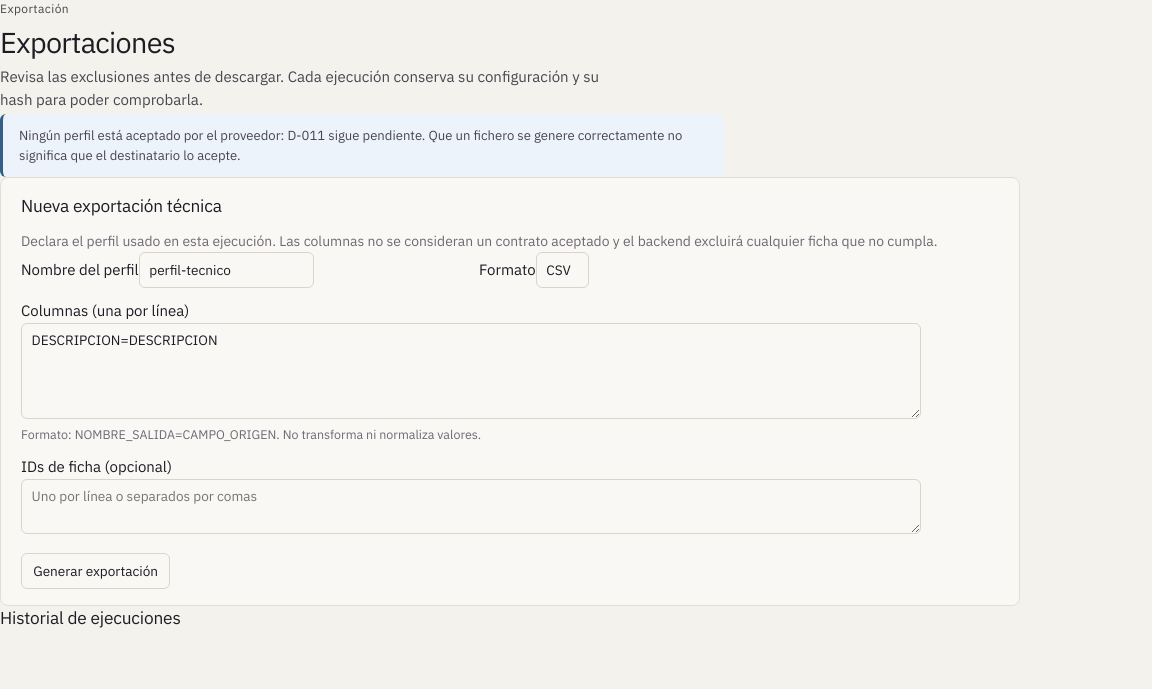
Test case: crea una exportacion firmada y refresca el historial
Click the button "Generar exportación" at (96, 571), box [21,553,170,589]
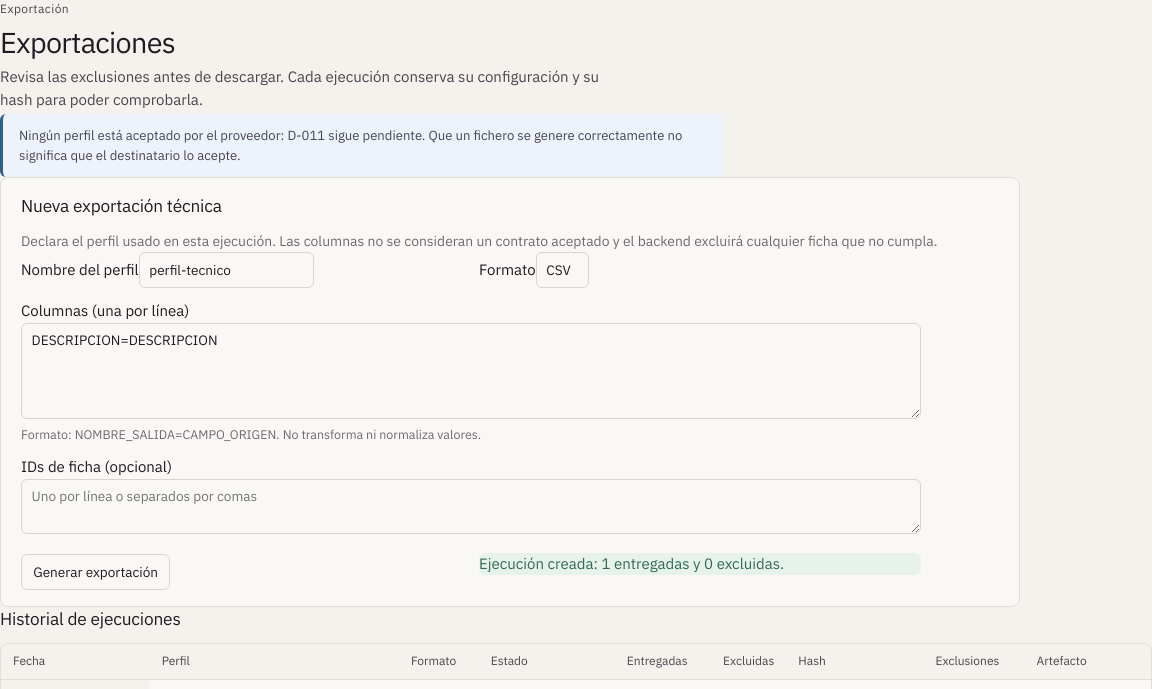
Result: the message shows "1 entregadas y 0 excluidas" at [479,554,784,573]
